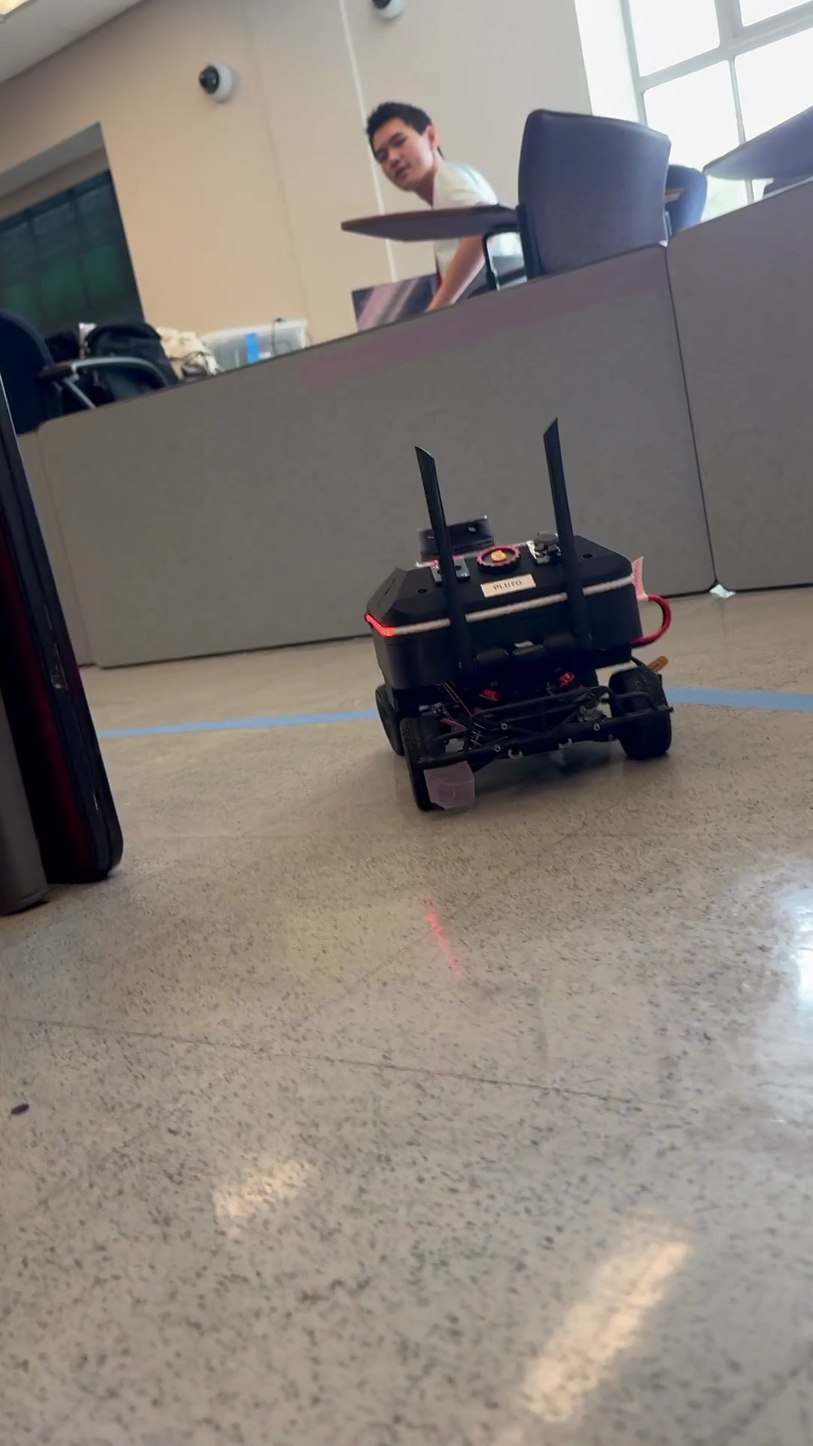racecar: (361, 424, 672, 813)
